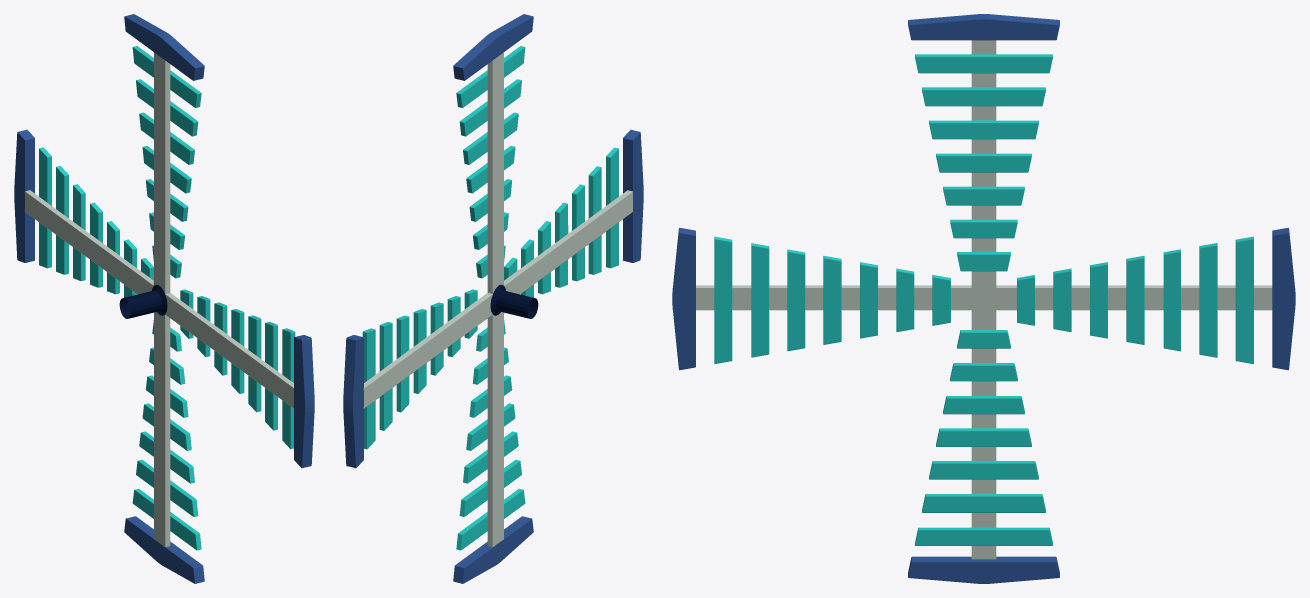
File: Windmill Blades.fbx
The picture shows the model from 3 angles, left to right: view 1: azimuth 30°, elevation 25°; view 2: azimuth 150°, elevation 25°; view 3: azimuth 270°, elevation 25°; orthographic projection. The views are drawn at different scales.
Parts seen in each view (by area): view 1: Blades; view 2: Blades; view 3: Blades.
Boxes of the visible parts, <box> form: Blades: <box>14,14,314,583</box>; Blades: <box>343,14,643,583</box>; Blades: <box>672,14,1295,583</box>.
Bounding box in the file's own units: 234 × 2647 × 2647.
Materials: 1 (1 with a texture image).
